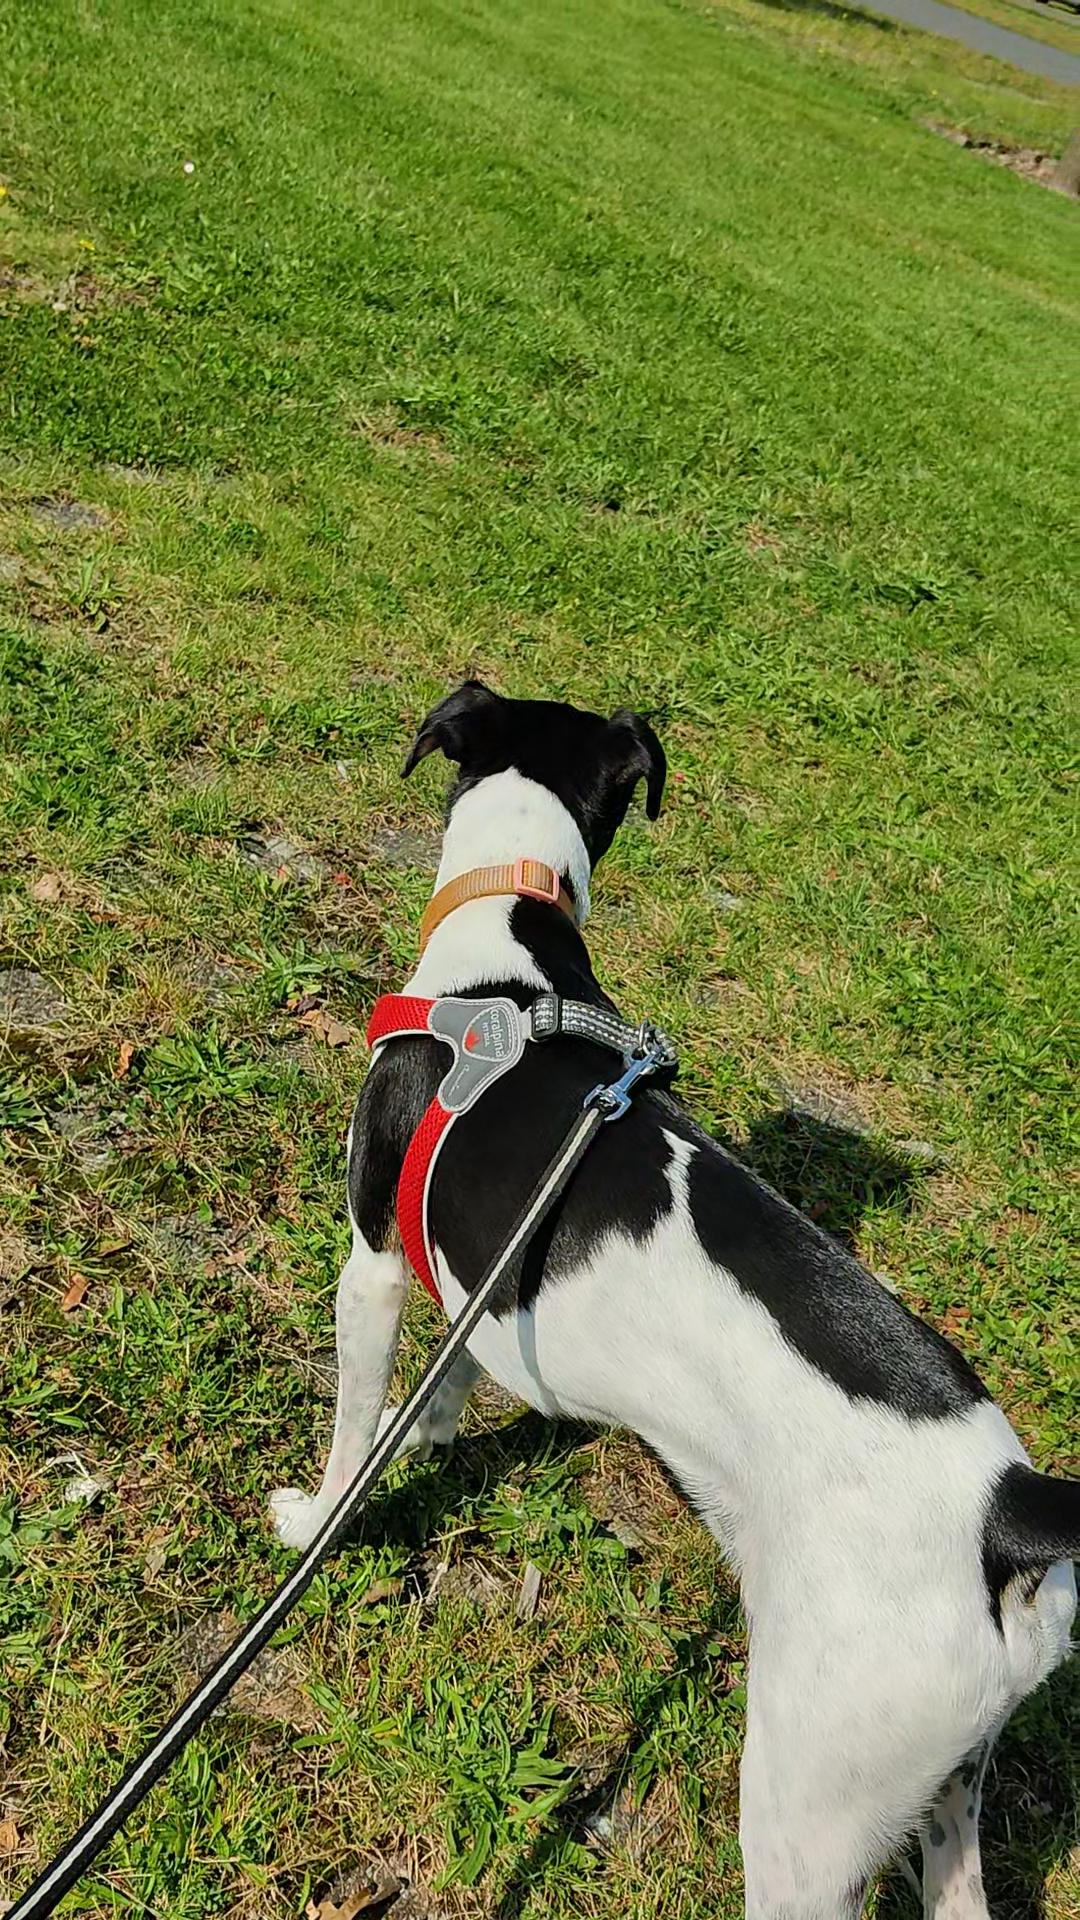Dog: (247, 655, 1079, 1919)
